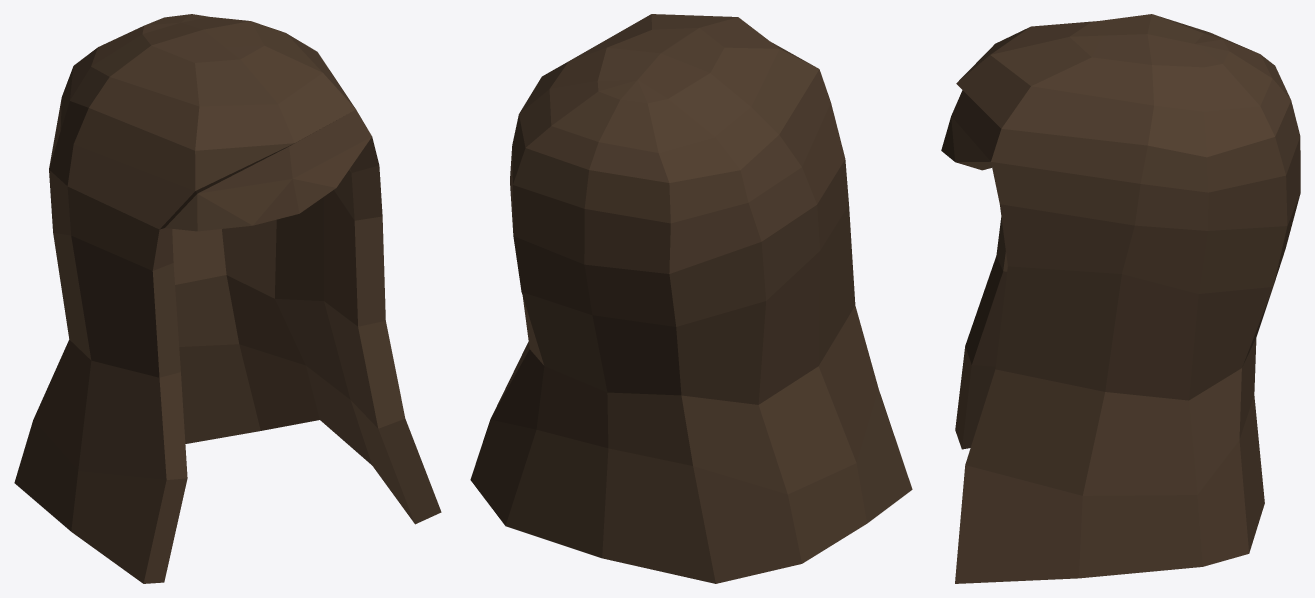
Rendered from quaternius-female-hair.glb.
3 views of the same model, side by side, from view 1: azimuth 30°, elevation 25°; view 2: azimuth 150°, elevation 25°; view 3: azimuth 270°, elevation 25° (orthographic). The views are drawn at different scales.
Parts seen in each view (by area): view 1: Female_Hairstyle_2_Cylinder.004; view 2: Female_Hairstyle_2_Cylinder.004; view 3: Female_Hairstyle_2_Cylinder.004.
Part boxes in pixels (x1,y1,x2,y2): Female_Hairstyle_2_Cylinder.004: [14, 14, 441, 583]; Female_Hairstyle_2_Cylinder.004: [470, 14, 912, 583]; Female_Hairstyle_2_Cylinder.004: [941, 14, 1300, 583].
Bounding box in the file's own units: 0.6174 × 0.8284 × 0.5585.
